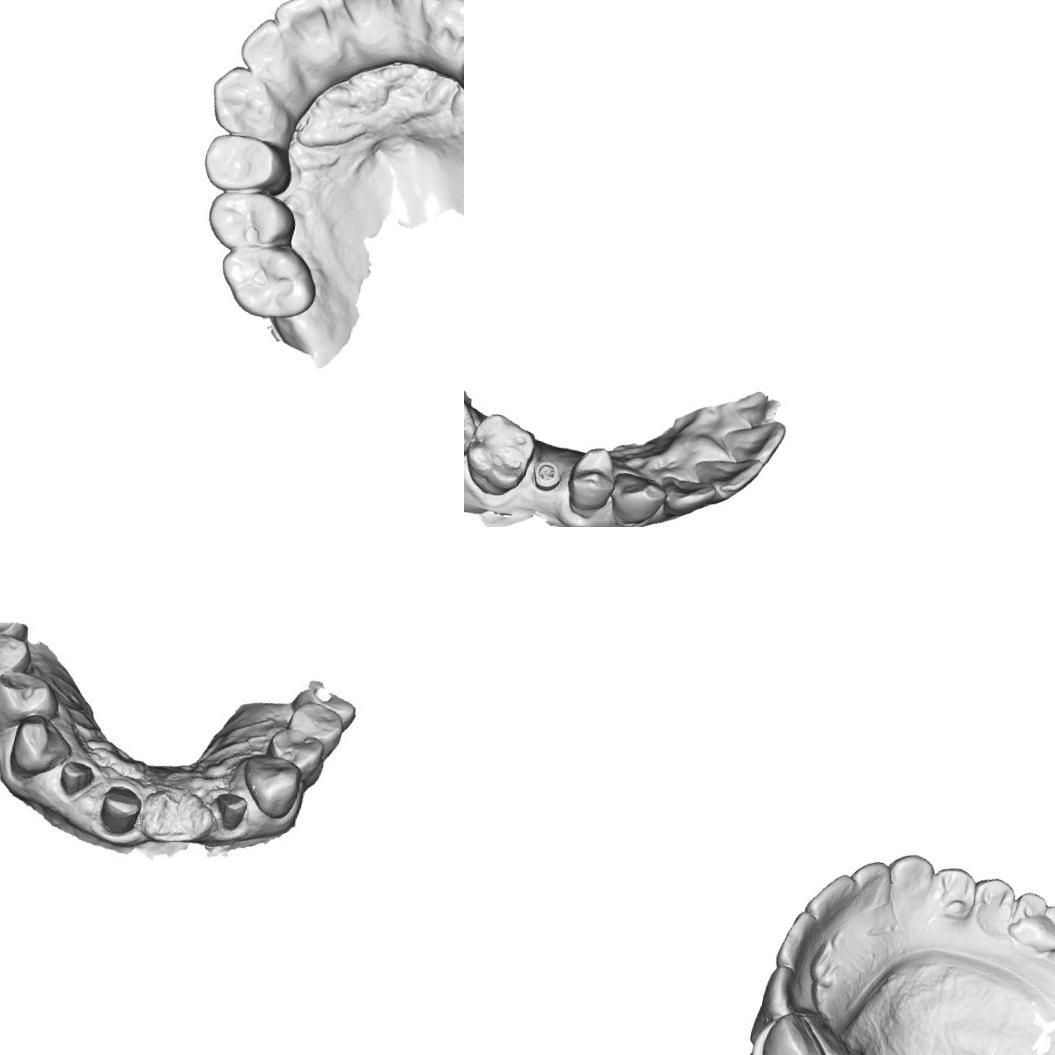canine: (202, 61, 287, 142), (240, 754, 311, 824), (7, 712, 73, 782), (604, 468, 670, 527), (754, 1007, 831, 1055), (882, 848, 938, 911), (426, 0, 464, 66)
crown: (96, 778, 149, 842), (52, 752, 94, 798), (210, 788, 252, 829)
implant: (528, 457, 565, 494)
incisor: (234, 12, 294, 82), (689, 446, 766, 500), (719, 410, 788, 469), (267, 0, 342, 52), (801, 866, 862, 928), (771, 908, 827, 972), (655, 473, 718, 525), (844, 853, 895, 910), (761, 960, 808, 1018), (377, 0, 445, 31), (324, 0, 396, 27)
molar: (211, 236, 324, 328), (201, 184, 300, 262), (464, 408, 539, 501), (1001, 884, 1055, 959), (464, 384, 482, 472)
premolar: (196, 128, 296, 200), (562, 441, 622, 516), (928, 858, 988, 927), (267, 720, 335, 778), (0, 669, 53, 736), (289, 692, 350, 746), (970, 870, 1020, 930), (0, 627, 41, 696)
